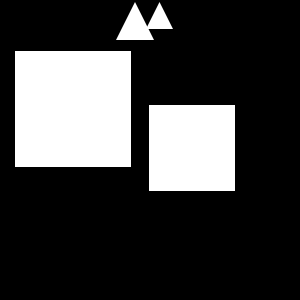circle: (15, 51, 131, 167), (149, 105, 235, 191)
triangle: (116, 2, 154, 40), (146, 2, 173, 29)
